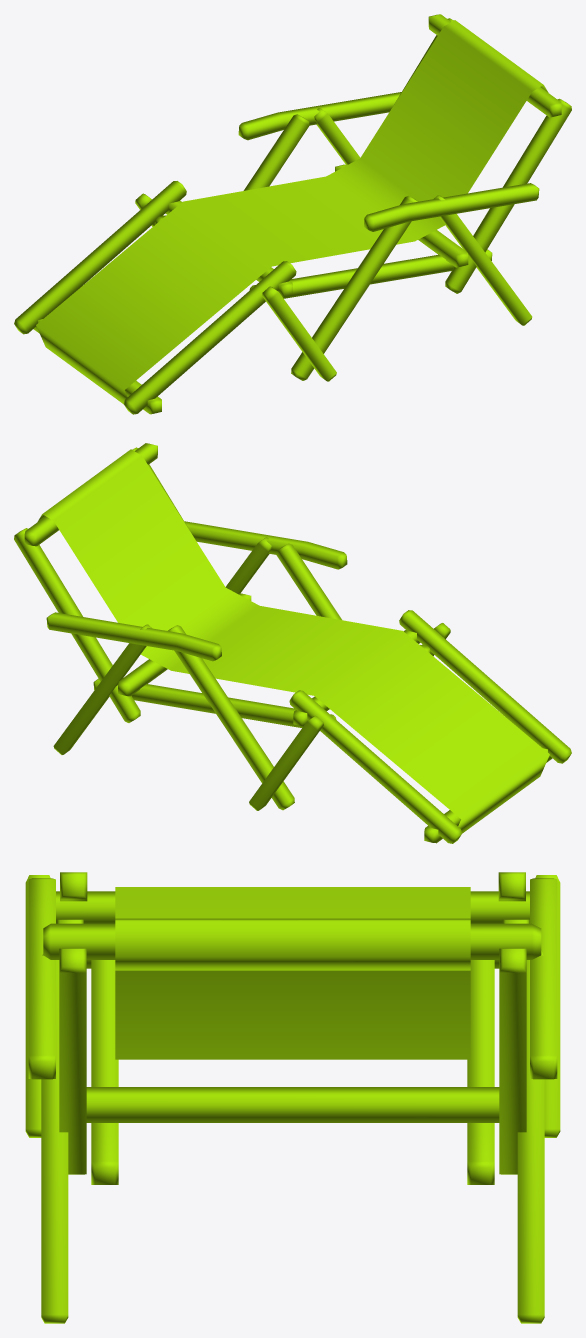
The model's file is LOD1_transat.fbx.
3 renders of one model, top to bottom at view 1: azimuth 30°, elevation 25°; view 2: azimuth 150°, elevation 25°; view 3: azimuth 270°, elevation 25°, orthographic. The views are drawn at different scales.
Parts seen in each view (by area): view 1: transat1_LOD1; view 2: transat1_LOD1; view 3: transat1_LOD1.
Boxes of the visible parts, x1,y1,x2,y2 form: transat1_LOD1: (14, 14, 571, 414); transat1_LOD1: (14, 443, 571, 843); transat1_LOD1: (25, 872, 560, 1323).
Size of the model in its own units: 166 by 81.75 by 87.02.
